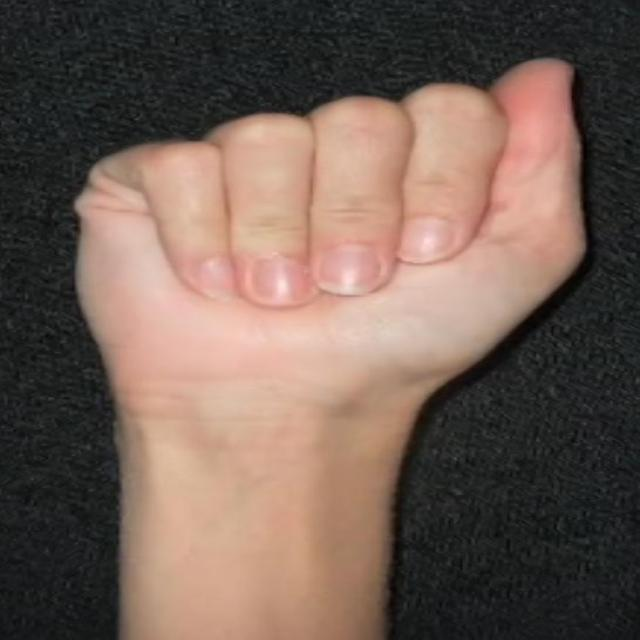A: (48, 51, 601, 425)
